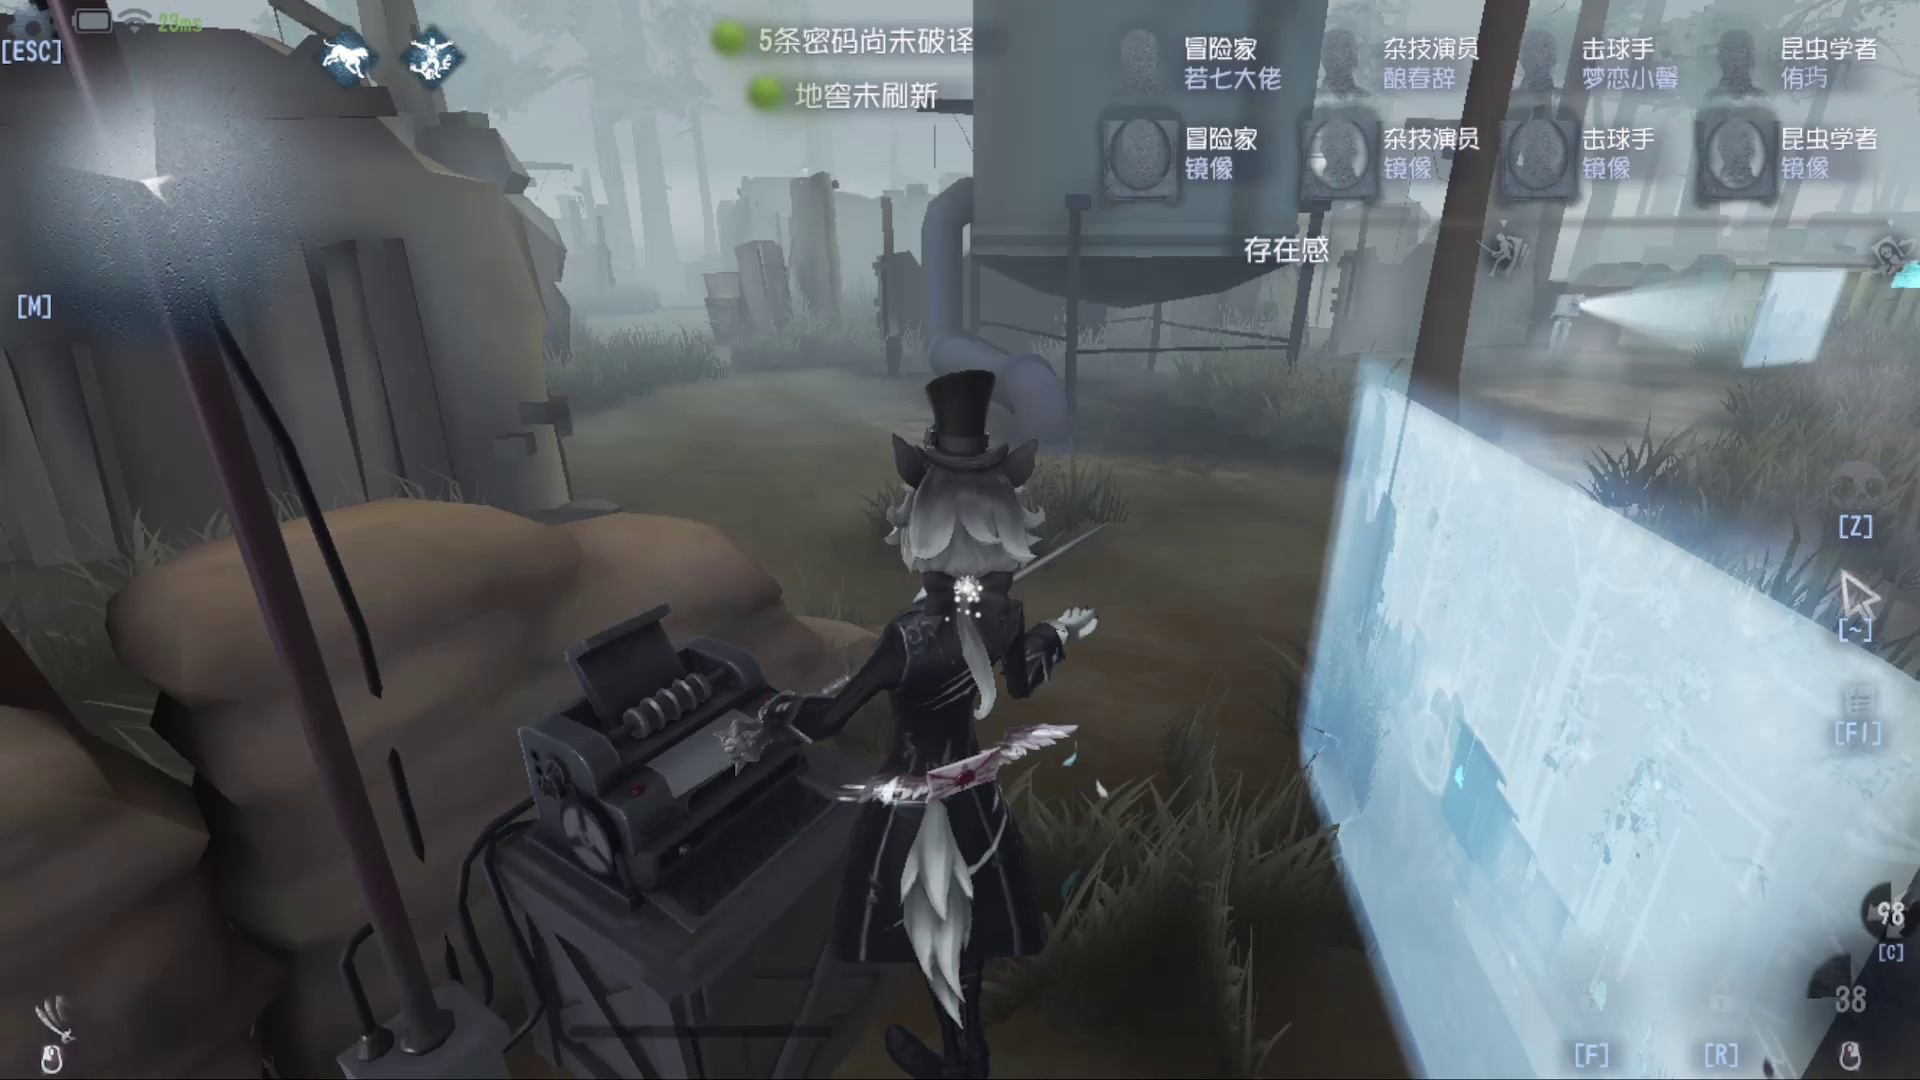密码机: (237, 522, 959, 1069)
